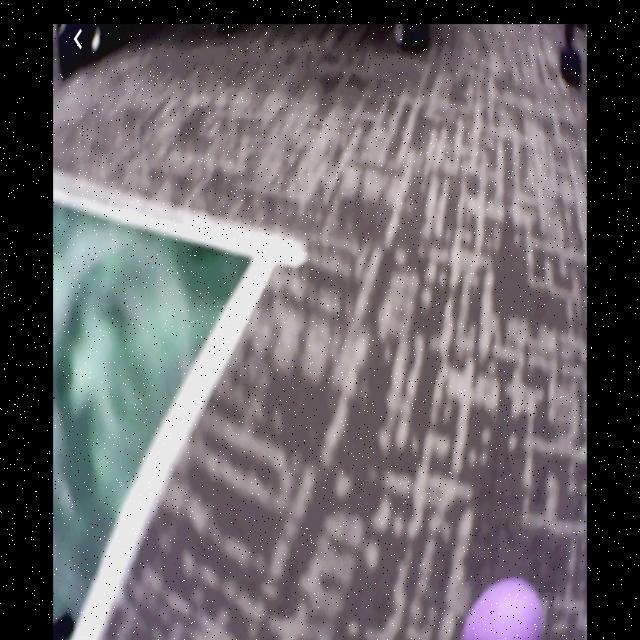ball: (460, 576, 548, 640)
